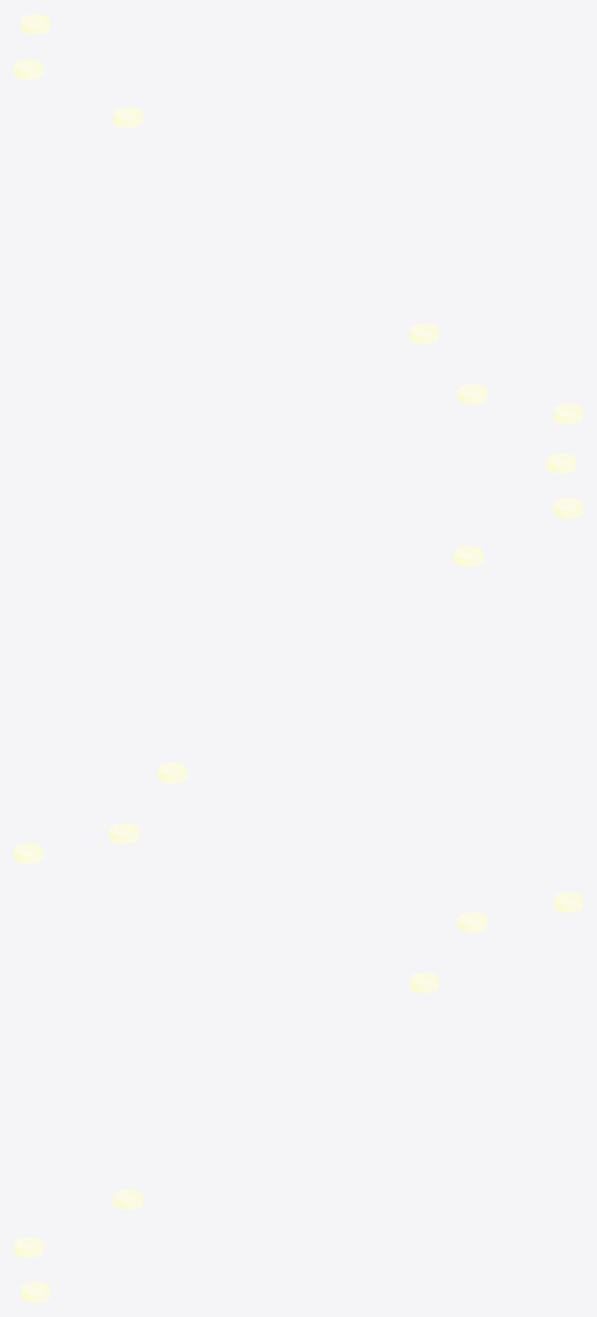
Rendered from Golf Club Podiums.glb.
3 renders of one model, top to bottom at view 1: azimuth 30°, elevation 25°; view 2: azimuth 150°, elevation 25°; view 3: azimuth 330°, elevation 25°, orthographic.
Visible parts, largest first — view 1: debug_view; view 2: debug_view; view 3: debug_view.
Boxes of the visible parts, x1,y1,x2,y2 form: debug_view: (14, 14, 582, 424); debug_view: (14, 453, 582, 863); debug_view: (14, 892, 582, 1302).
Bounding box in the file's own units: 4.5 × 0.45 × 55.5.
